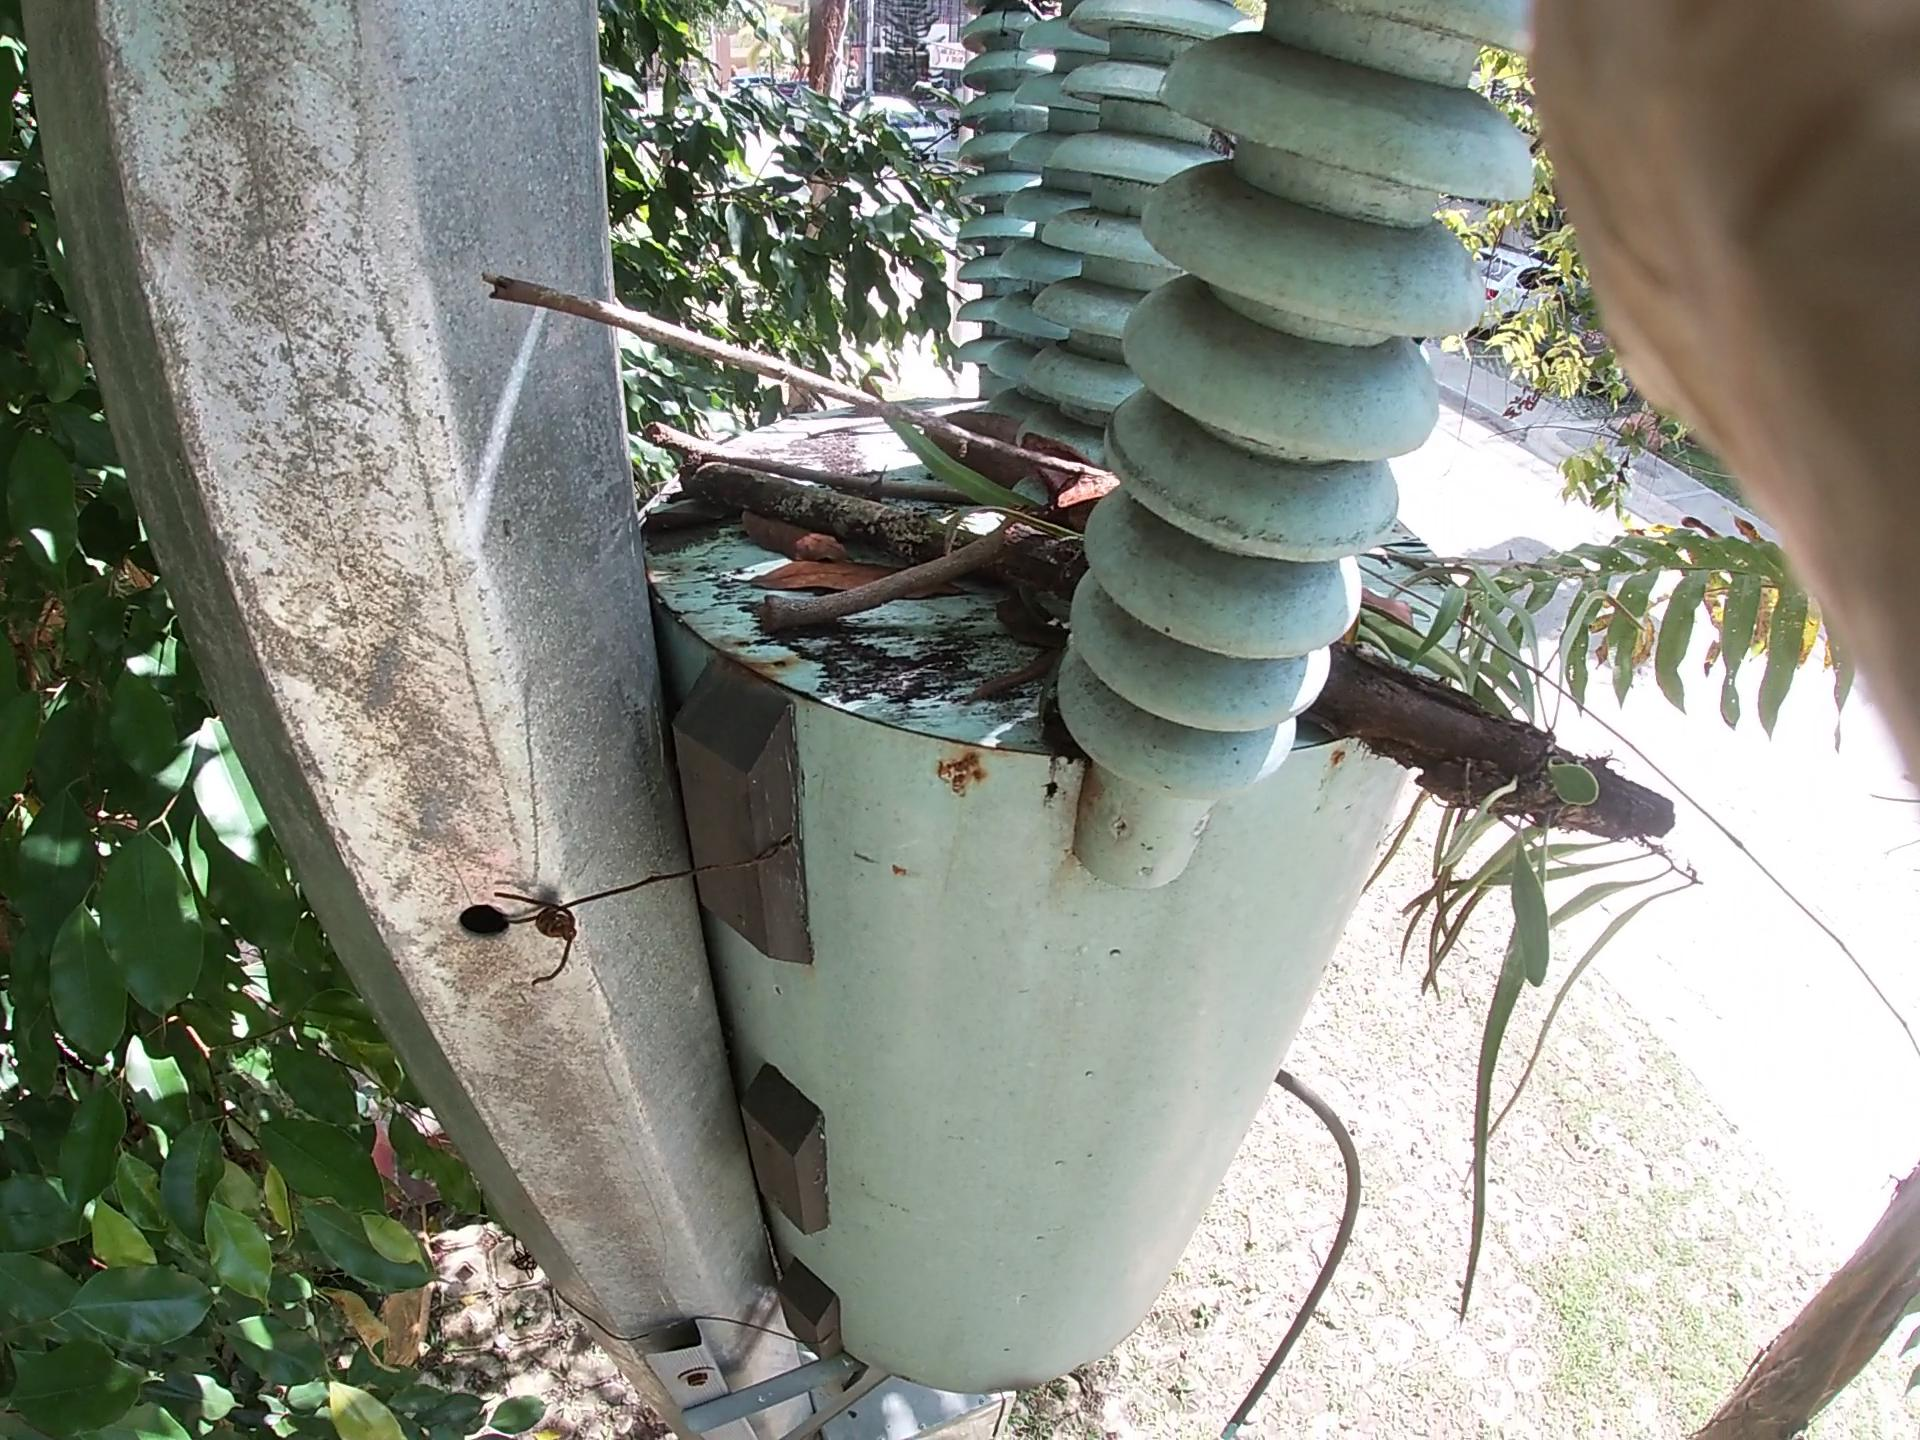branch with leaves: (671, 446, 1683, 852)
leaf: (742, 560, 971, 604), (735, 507, 844, 563)
mahogany fruit: (974, 399, 1129, 513)
tree branch: (482, 266, 1134, 514), (639, 421, 1011, 526), (736, 523, 1054, 620)
